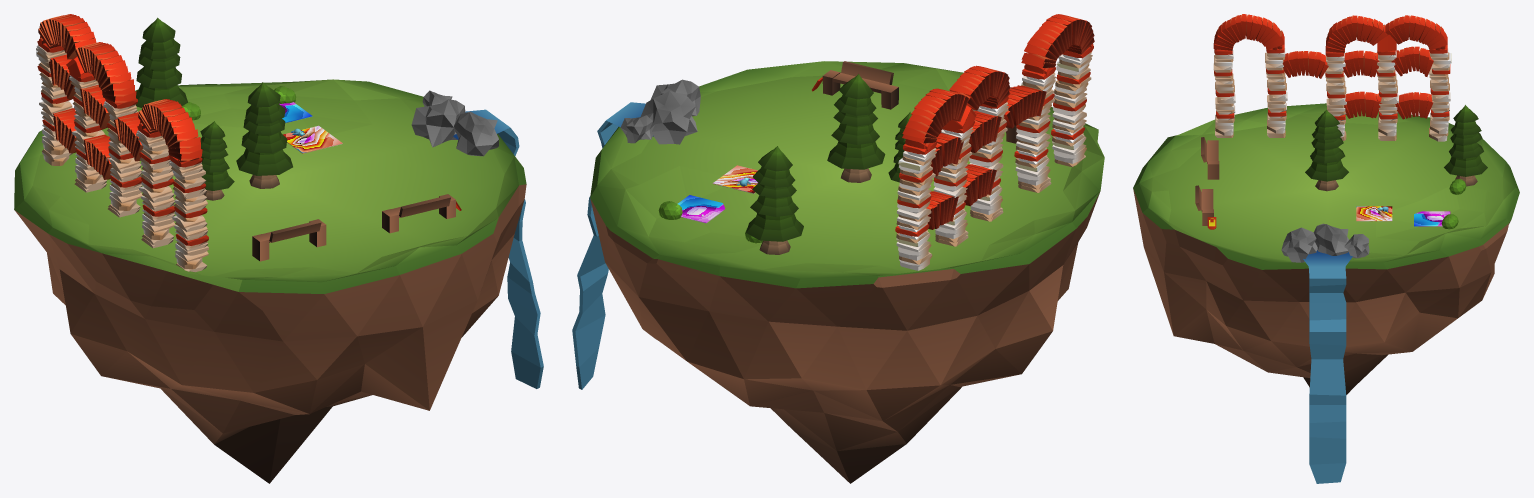
File: Isla.glb
3 views of the same model, side by side, from view 1: azimuth 30°, elevation 25°; view 2: azimuth 150°, elevation 25°; view 3: azimuth 270°, elevation 25° (orthographic). The views are drawn at different scales.
Parts seen in each view (by area): view 1: Isla, Agua, Arbol, Arbol.002, Arbol.003, Roca 3, Roca 2, Cube.116, Cube.115, Cube.111; view 2: Isla, Agua, Arbol, Arbol.002, Roca 3, Cube.107, Cube.116, Roca 1, Roca 2, Cube.111; view 3: Isla, Agua, Arbol, Arbol.002, Roca 2, Roca 3, Cube.116, Cube.107, Roca 1.
Part boxes in pixels (x1,y1,x2,y2): Isla: (14,79,526,483); Agua: (453,109,543,388); Arbol: (236,82,292,188); Arbol.002: (136,17,187,107); Arbol.003: (200,121,234,200); Roca 3: (411,99,465,147); Roca 2: (454,111,499,156); Cube.116: (283,125,342,153); Cube.115: (269,220,321,242); Cube.111: (399,195,450,217); Isla: (590,61,1104,483); Agua: (572,102,653,389); Arbol: (827,74,885,182); Arbol.002: (746,146,803,254); Roca 3: (640,91,697,144); Cube.107: (677,195,725,223); Cube.116: (712,165,757,193); Roca 1: (620,115,654,143); Roca 2: (650,79,700,116); Cube.111: (841,61,893,84); Isla: (1133,103,1519,394); Agua: (1303,250,1352,483); Arbol: (1305,109,1348,191); Arbol.002: (1444,105,1487,186); Roca 2: (1281,227,1317,262); Roca 3: (1313,223,1348,255); Cube.116: (1356,206,1392,221); Cube.107: (1414,211,1450,226); Roca 1: (1344,234,1369,258).
Size of what is drawn, in the model's own units: 22.85 by 20.64 by 21.03.
Materials: 1 (1 with a texture image).
